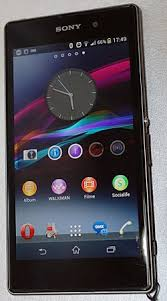sony: (1, 2, 159, 298)
